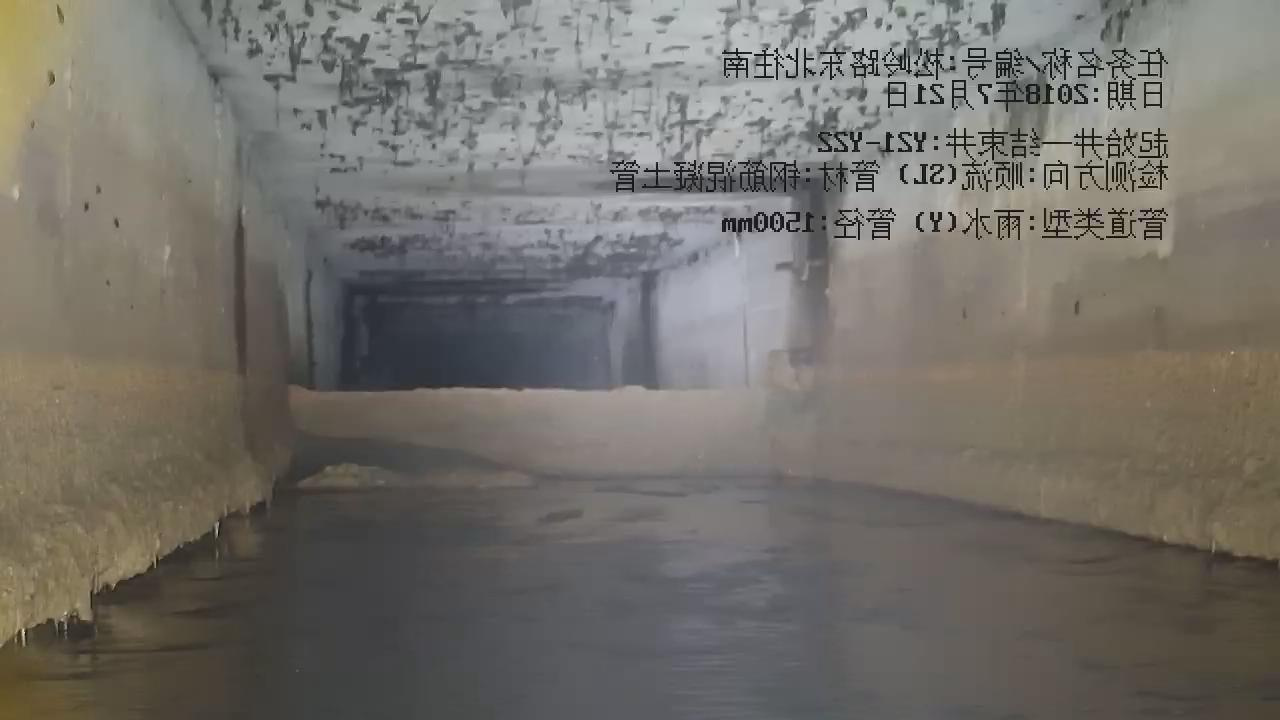CQBG: (291, 387, 779, 474)
